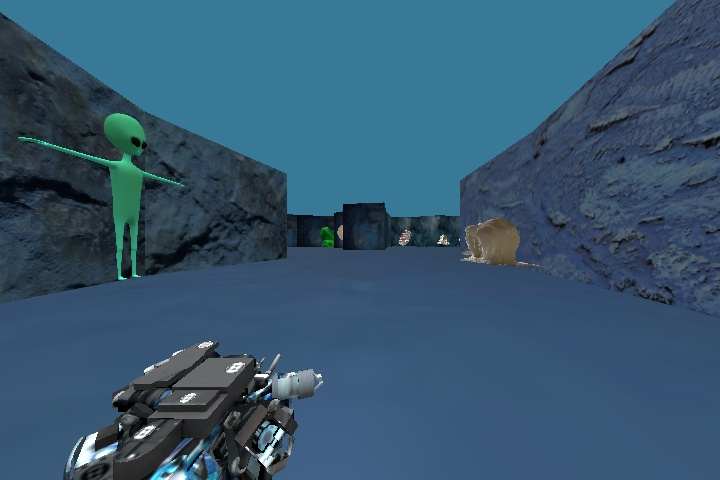formation: (455, 220, 525, 271)
green_alien: (16, 83, 180, 275)
green_crystal: (311, 223, 337, 248)
